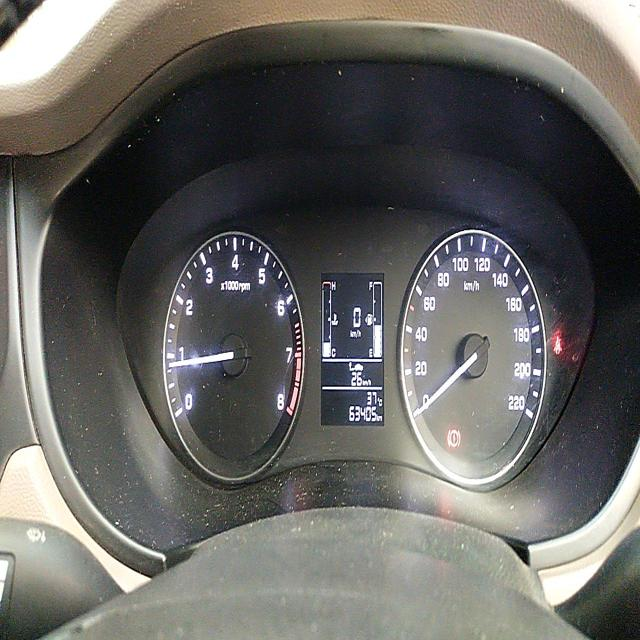odometer: (346, 402, 378, 428)
